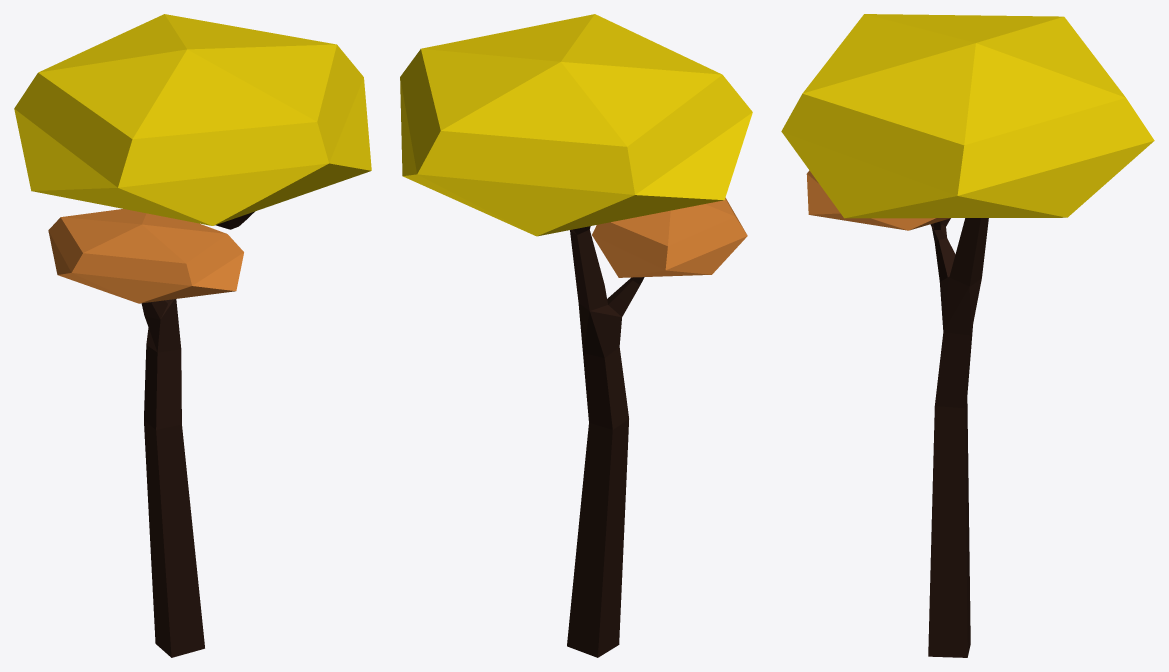
Rendered from RoundTree_v1.fbx.
3 views of the same model, side by side, from view 1: azimuth 30°, elevation 25°; view 2: azimuth 150°, elevation 25°; view 3: azimuth 270°, elevation 25° (orthographic). The views are drawn at different scales.
Visible parts, largest first — view 1: TopLeaf, TreeTrunk, LeafLow; view 2: TopLeaf, TreeTrunk, LeafLow; view 3: TopLeaf, TreeTrunk, LeafLow.
Part boxes in pixels (left/top/right/bottom): TopLeaf: left=14, top=14, right=371, bottom=225; TreeTrunk: left=141, top=211, right=254, bottom=657; LeafLow: left=48, top=209, right=243, bottom=303; TopLeaf: left=400, top=14, right=752, bottom=236; TreeTrunk: left=567, top=226, right=644, bottom=657; LeafLow: left=592, top=197, right=747, bottom=277; TopLeaf: left=781, top=14, right=1154, bottom=218; TreeTrunk: left=928, top=218, right=988, bottom=657; LeafLow: left=806, top=170, right=950, bottom=230.
Size of the model in its own units: 575 by 981 by 537.
